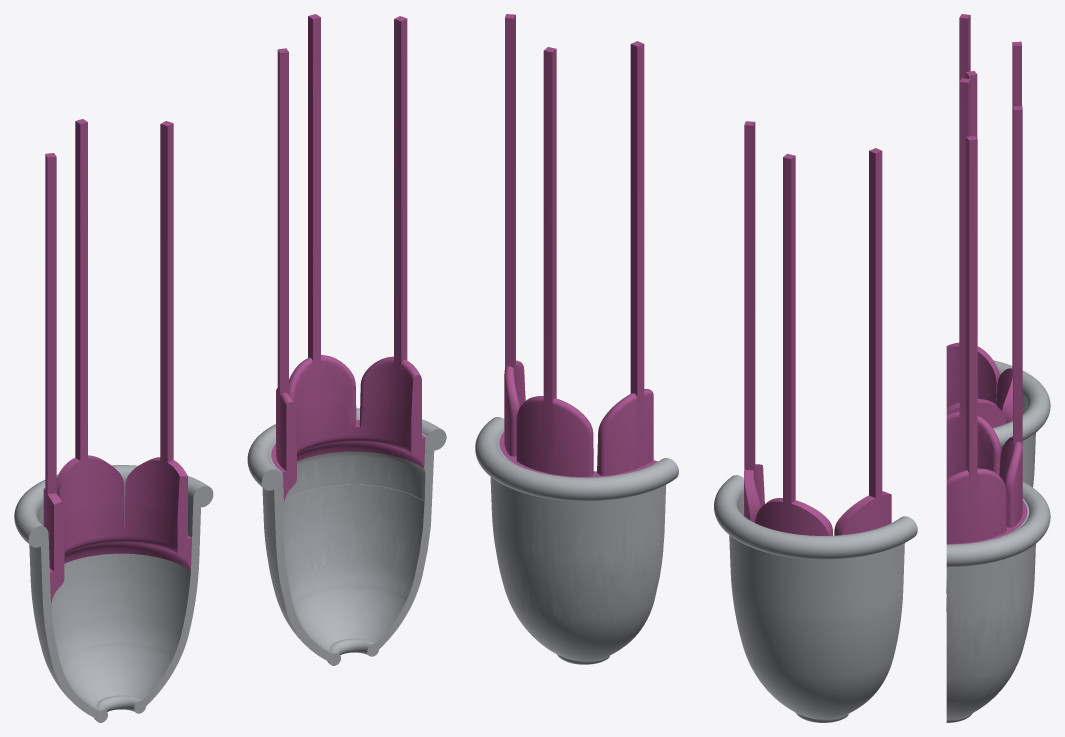
The model's file is flower-sections.glb.
The picture shows the model from 3 angles, left to right: view 1: azimuth 30°, elevation 25°; view 2: azimuth 150°, elevation 25°; view 3: azimuth 270°, elevation 25°; orthographic projection. The views are drawn at different scales.
Parts seen in each view (by area): view 1: flower-cup-withrim-higher-0-body, flower-cup-withrim-higher-0-mechanism, flower-cup-withrim-part-5, flower-cup-withrim-part-3, flower-cup-withrim-part-4, flower-cup-withrim-part-2; view 2: flower-cup-withrim-higher-0-body, flower-cup-withrim-part-3, flower-cup-withrim-higher-0-mechanism, flower-cup-withrim-part-5; view 3: flower-cup-withrim-higher-0-mechanism, flower-cup-withrim-higher-0-body, flower-cup-withrim-part-5, flower-cup-withrim-part-3.
Boxes of the visible parts, left/top/right/bottom form: flower-cup-withrim-higher-0-body: left=247, top=408, right=446, bottom=665; flower-cup-withrim-higher-0-mechanism: left=271, top=14, right=425, bottom=501; flower-cup-withrim-part-5: left=43, top=119, right=191, bottom=580; flower-cup-withrim-part-3: left=14, top=465, right=213, bottom=718; flower-cup-withrim-part-4: left=50, top=536, right=191, bottom=604; flower-cup-withrim-part-2: left=94, top=695, right=146, bottom=722; flower-cup-withrim-higher-0-body: left=475, top=417, right=678, bottom=664; flower-cup-withrim-part-3: left=714, top=475, right=917, bottom=719; flower-cup-withrim-higher-0-mechanism: left=499, top=14, right=657, bottom=477; flower-cup-withrim-part-5: left=744, top=121, right=891, bottom=535; flower-cup-withrim-higher-0-mechanism: left=946, top=78, right=1027, bottom=544; flower-cup-withrim-higher-0-body: left=946, top=482, right=1050, bottom=722; flower-cup-withrim-part-5: left=946, top=14, right=1021, bottom=427; flower-cup-withrim-part-3: left=993, top=360, right=1050, bottom=487.
Bounding box in the file's own units: 0.104 × 0.147 × 0.023.
